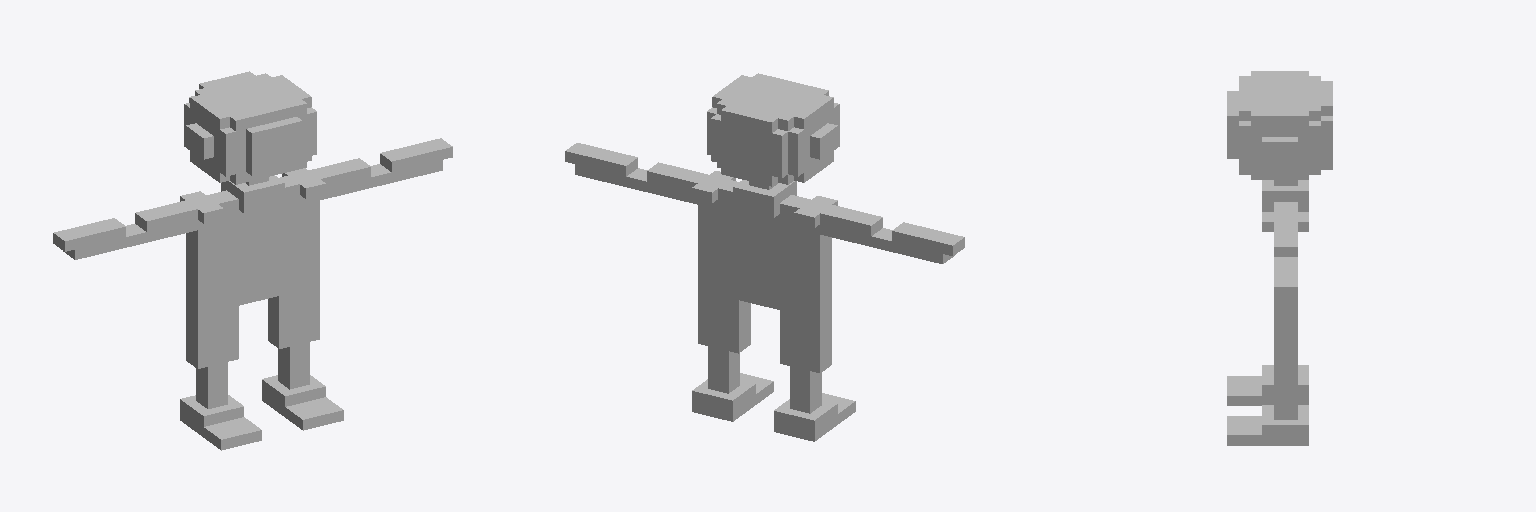
Rendered from skeleton.obj.
3 renders of one model, left to right at view 1: azimuth 30°, elevation 25°; view 2: azimuth 150°, elevation 25°; view 3: azimuth 270°, elevation 25°, orthographic.
Parts seen in each view (by area): view 1: skeleton; view 2: skeleton; view 3: skeleton.
Boxes of the visible parts, <box> form: skeleton: <box>53,71,452,450</box>; skeleton: <box>565,73,964,441</box>; skeleton: <box>1227,71,1332,445</box>.
Bounding box in the file's own units: 38 × 30 × 9.